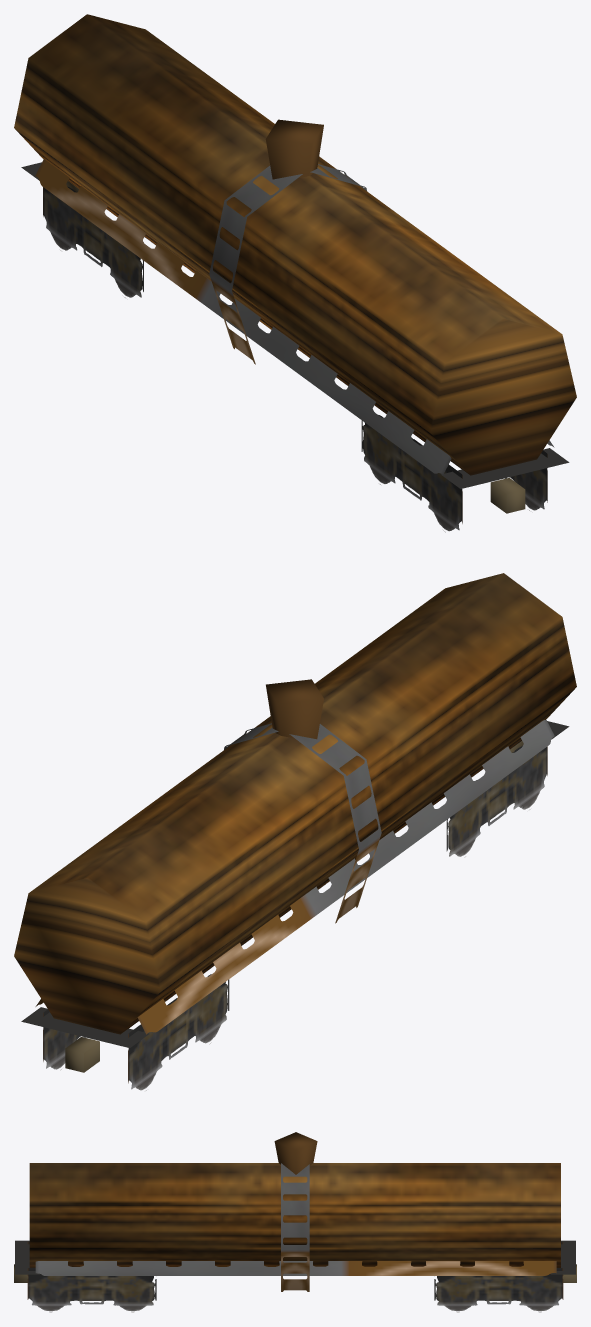
Rendered from tanker.obj.
The picture shows the model from 3 angles, top to bottom: view 1: azimuth 30°, elevation 25°; view 2: azimuth 150°, elevation 25°; view 3: azimuth 270°, elevation 25°; orthographic projection. The views are drawn at different scales.
Parts seen in each view (by area): view 1: Cube.004_Cube.007; view 2: Cube.004_Cube.007; view 3: Cube.004_Cube.007.
Boxes of the visible parts, x1,y1,x2,y2 form: Cube.004_Cube.007: (14, 14, 576, 532); Cube.004_Cube.007: (14, 573, 576, 1090); Cube.004_Cube.007: (14, 1132, 576, 1312).
Bounding box in the file's own units: 2.93 × 4.64 × 14.94.
